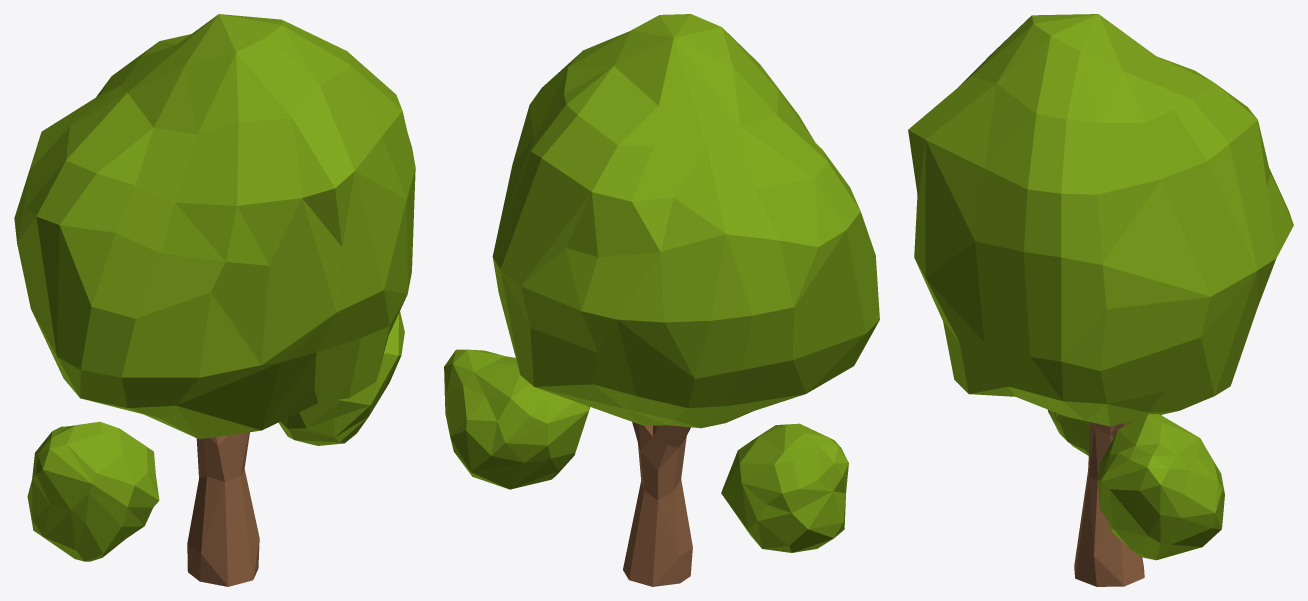
The model's file is tree-summer-complete-3-057.glb.
3 renders of one model, left to right at view 1: azimuth 30°, elevation 25°; view 2: azimuth 150°, elevation 25°; view 3: azimuth 270°, elevation 25°, orthographic. The views are drawn at different scales.
Visible parts, largest first — view 1: TREE 3_293, TREE 3.001_294; view 2: TREE 3_293, TREE 3.001_294; view 3: TREE 3_293, TREE 3.001_294.
Part boxes in pixels (<box>): TREE 3_293: <box>14,14,415,561</box>; TREE 3.001_294: <box>187,432,259,586</box>; TREE 3_293: <box>444,14,879,552</box>; TREE 3.001_294: <box>623,422,692,586</box>; TREE 3_293: <box>908,14,1293,560</box>; TREE 3.001_294: <box>1074,422,1144,586</box>.
Size of the model in its own units: 1.04 by 1.42 by 0.8969.
